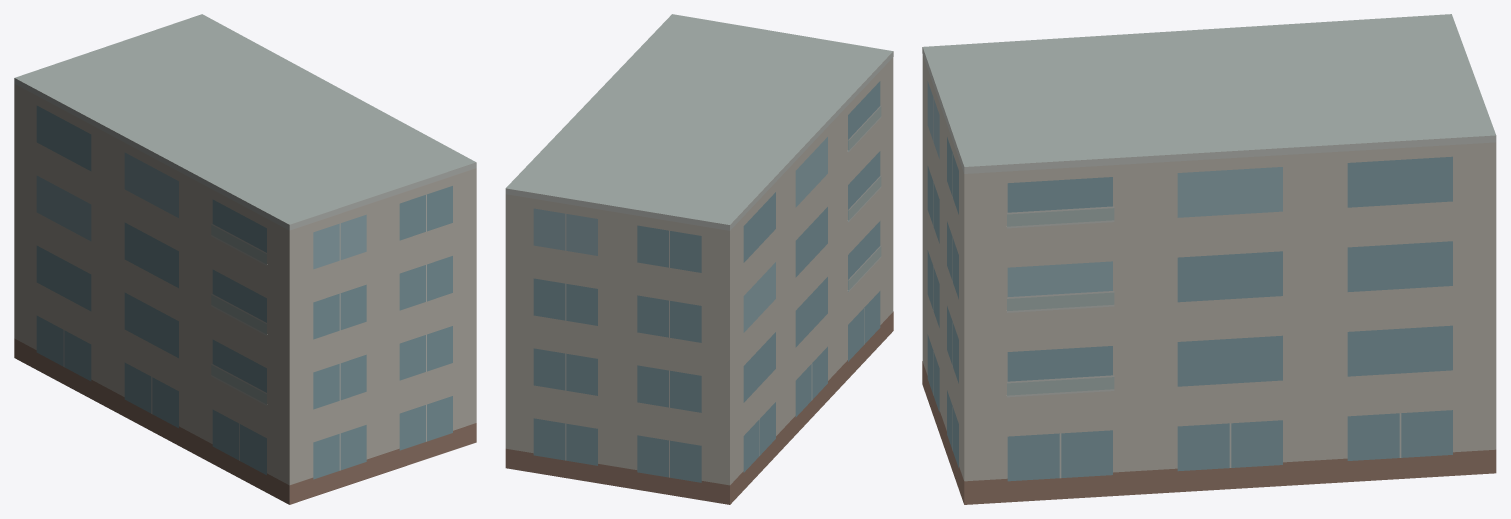
File: survey-upis-32576199.glb
3 renders of one model, left to right at view 1: azimuth 30°, elevation 25°; view 2: azimuth 150°, elevation 25°; view 3: azimuth 270°, elevation 25°, orthographic. The views are drawn at different scales.
Parts seen in each view (by area): view 1: survey-upis-32576199.tmp; view 2: survey-upis-32576199.tmp; view 3: survey-upis-32576199.tmp.
Boxes of the visible parts, <box> form: survey-upis-32576199.tmp: <box>14,14,476,504</box>; survey-upis-32576199.tmp: <box>505,14,893,504</box>; survey-upis-32576199.tmp: <box>922,14,1496,504</box>.
Bounding box in the file's own units: 11.47 × 11.8 × 18.17.
